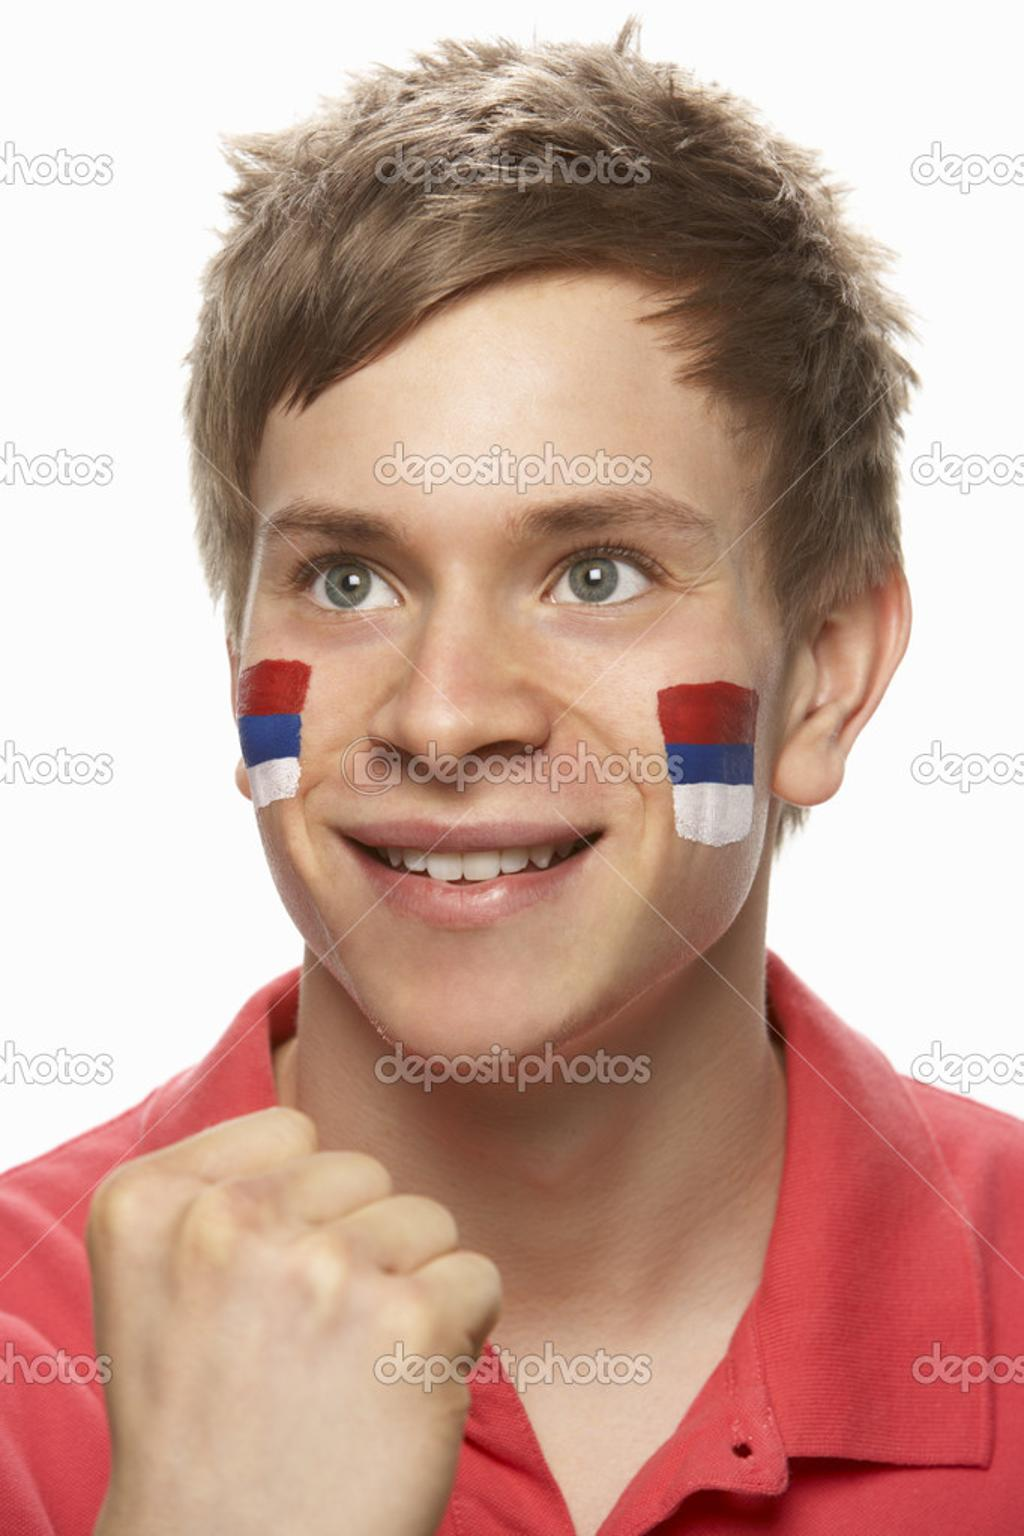face: (240, 339, 772, 1078)
